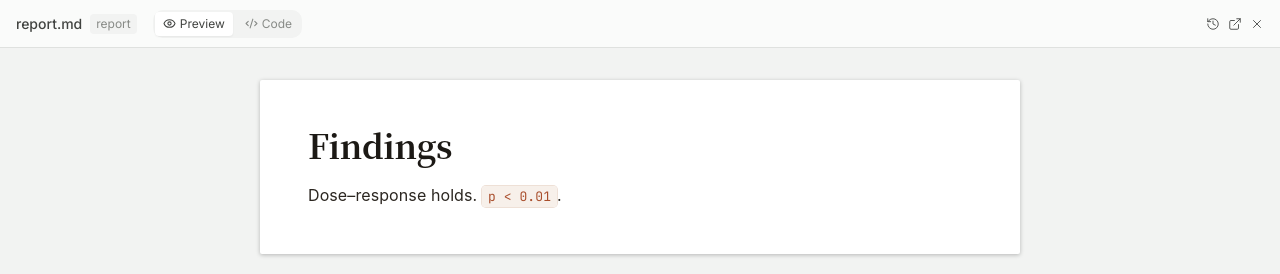
Test case: FilePreviewInspector — markdown › toggles to the raw source under the Code tab
Expected: the heading "Findings" is shown, 308,121 -> 452,168
Click the button "Code". click: (268, 24)
box: 237,12 -> 300,36
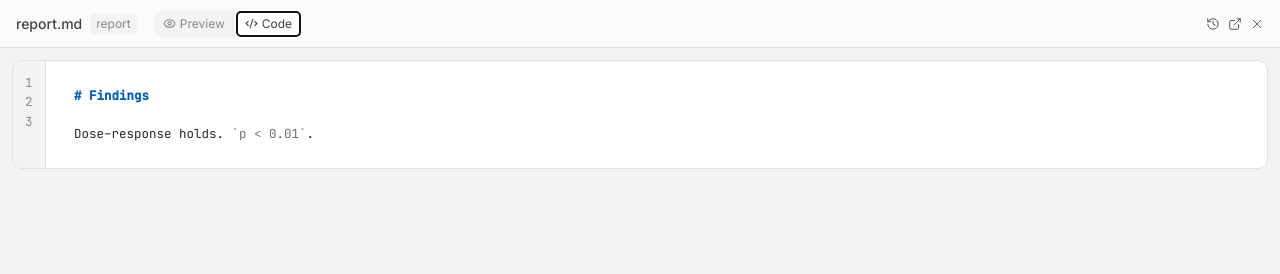
Expected: the text "# Findings" is shown, 74,86 -> 149,104
